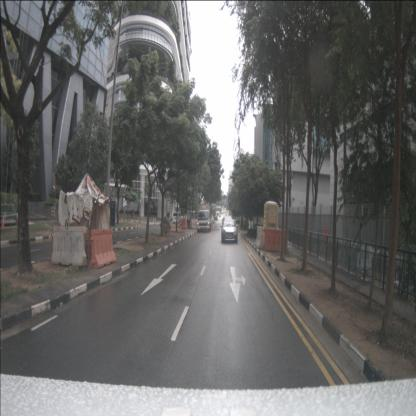barrier: (51, 224, 88, 268), (88, 228, 117, 270), (264, 227, 287, 253), (255, 224, 265, 252)
cone: (1, 215, 5, 228)
